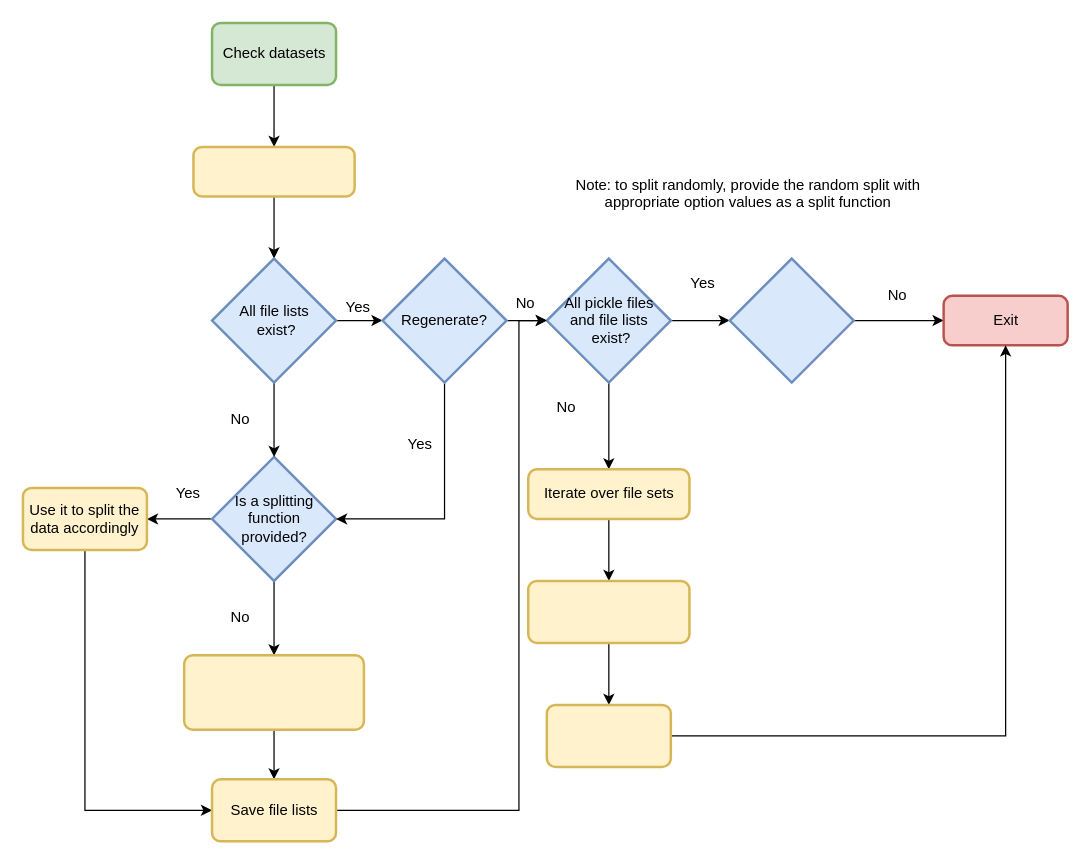
Image size: 1090x863. Some labels were removed from this diagram. Each missing label, with the centre of its shape:
"Call the load_dataset() function" goes at [608,611].
"Iterate over databases" goes at [273,171].
"Overwrite?" goes at [791,320].
"Save pickle files" goes at [608,735].
"Use specific provided folders (training, validation, test)" goes at [273,691].
